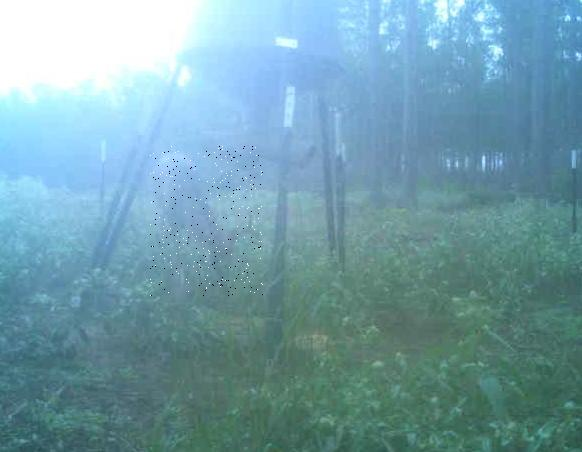Deer: (149, 146, 262, 296)
